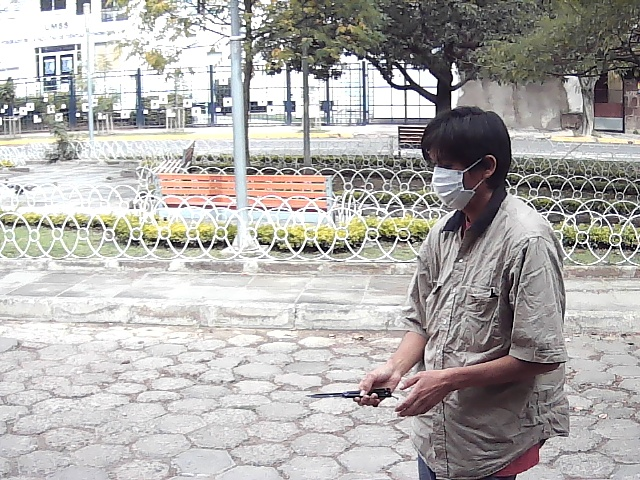cuchillo: (294, 370, 397, 414)
